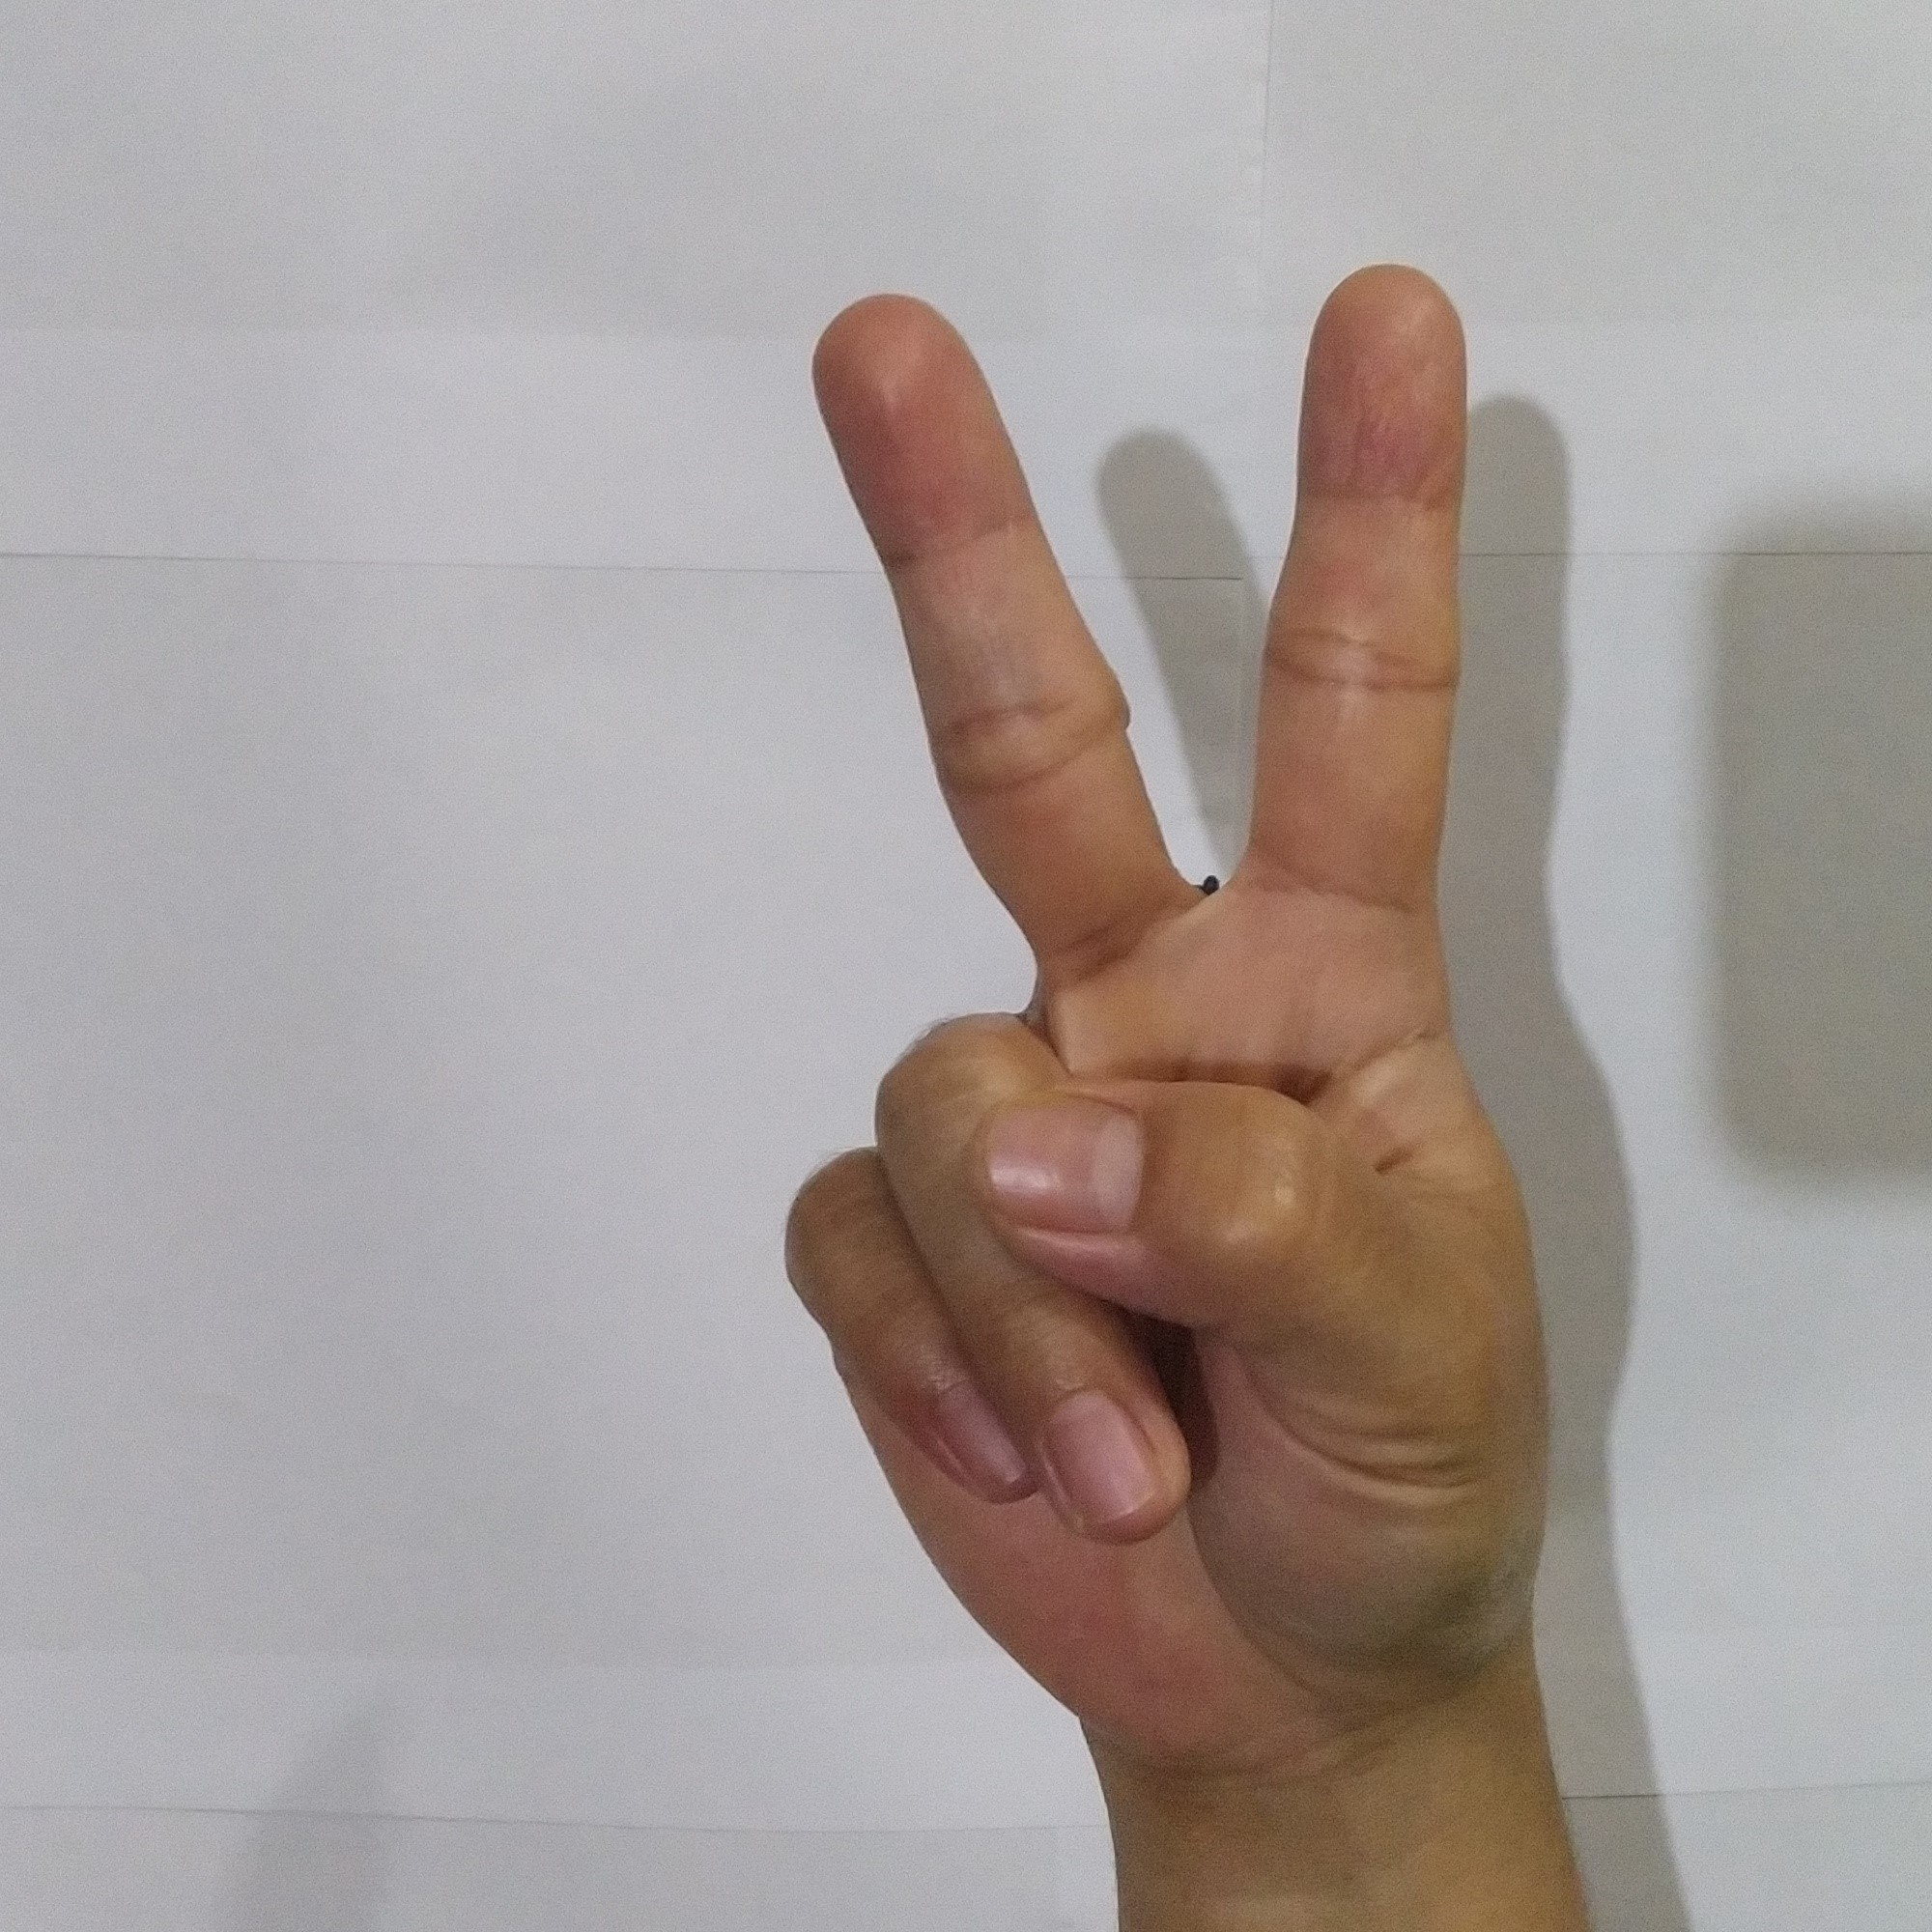V: (747, 234, 1585, 1730)
